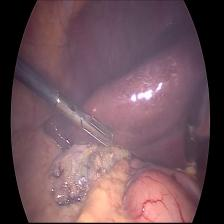Grasper: (54, 83, 120, 158)
